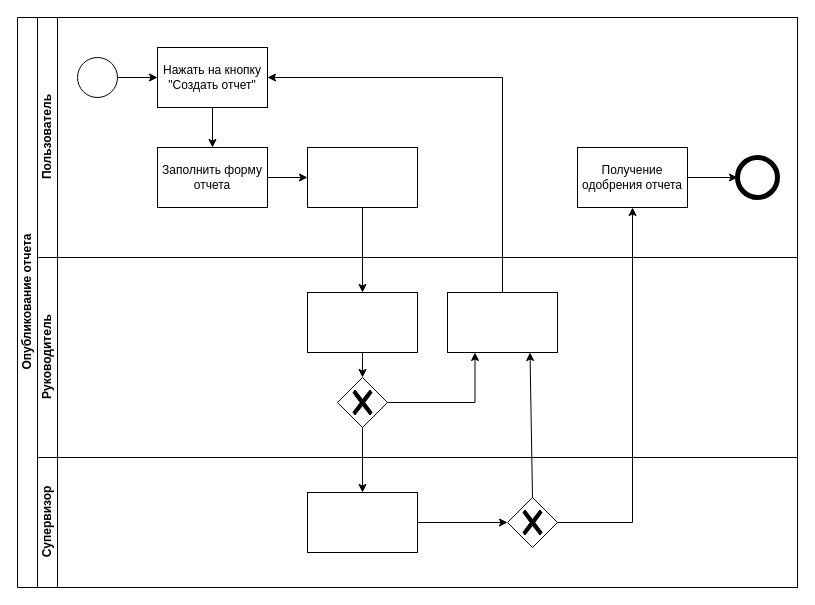
This 815x605 diagram has some shape labels left out. Each missing label, with the centre of its shape:
Возврат отчета на доработку: (x=502, y=322)
Нажать на кнопку отправить: (x=362, y=177)
Предварительный просмотр отчета: (x=362, y=322)
Рассмотрение отчета для его утверждения: (x=362, y=522)
